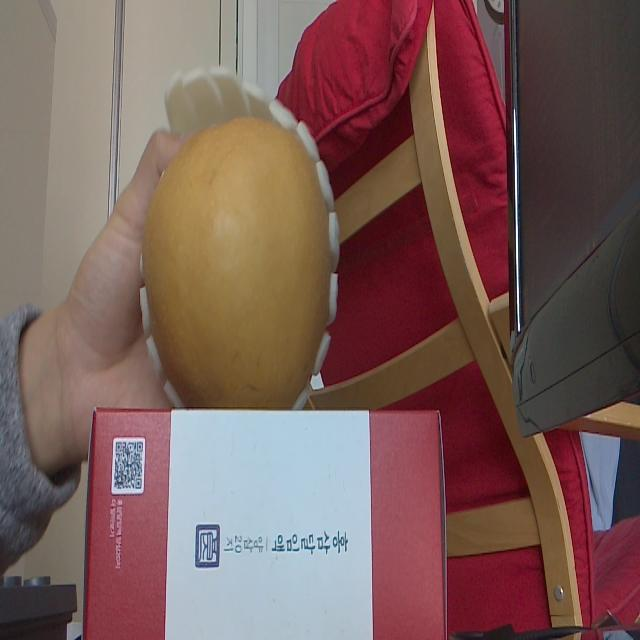pear: (140, 115, 332, 414)
